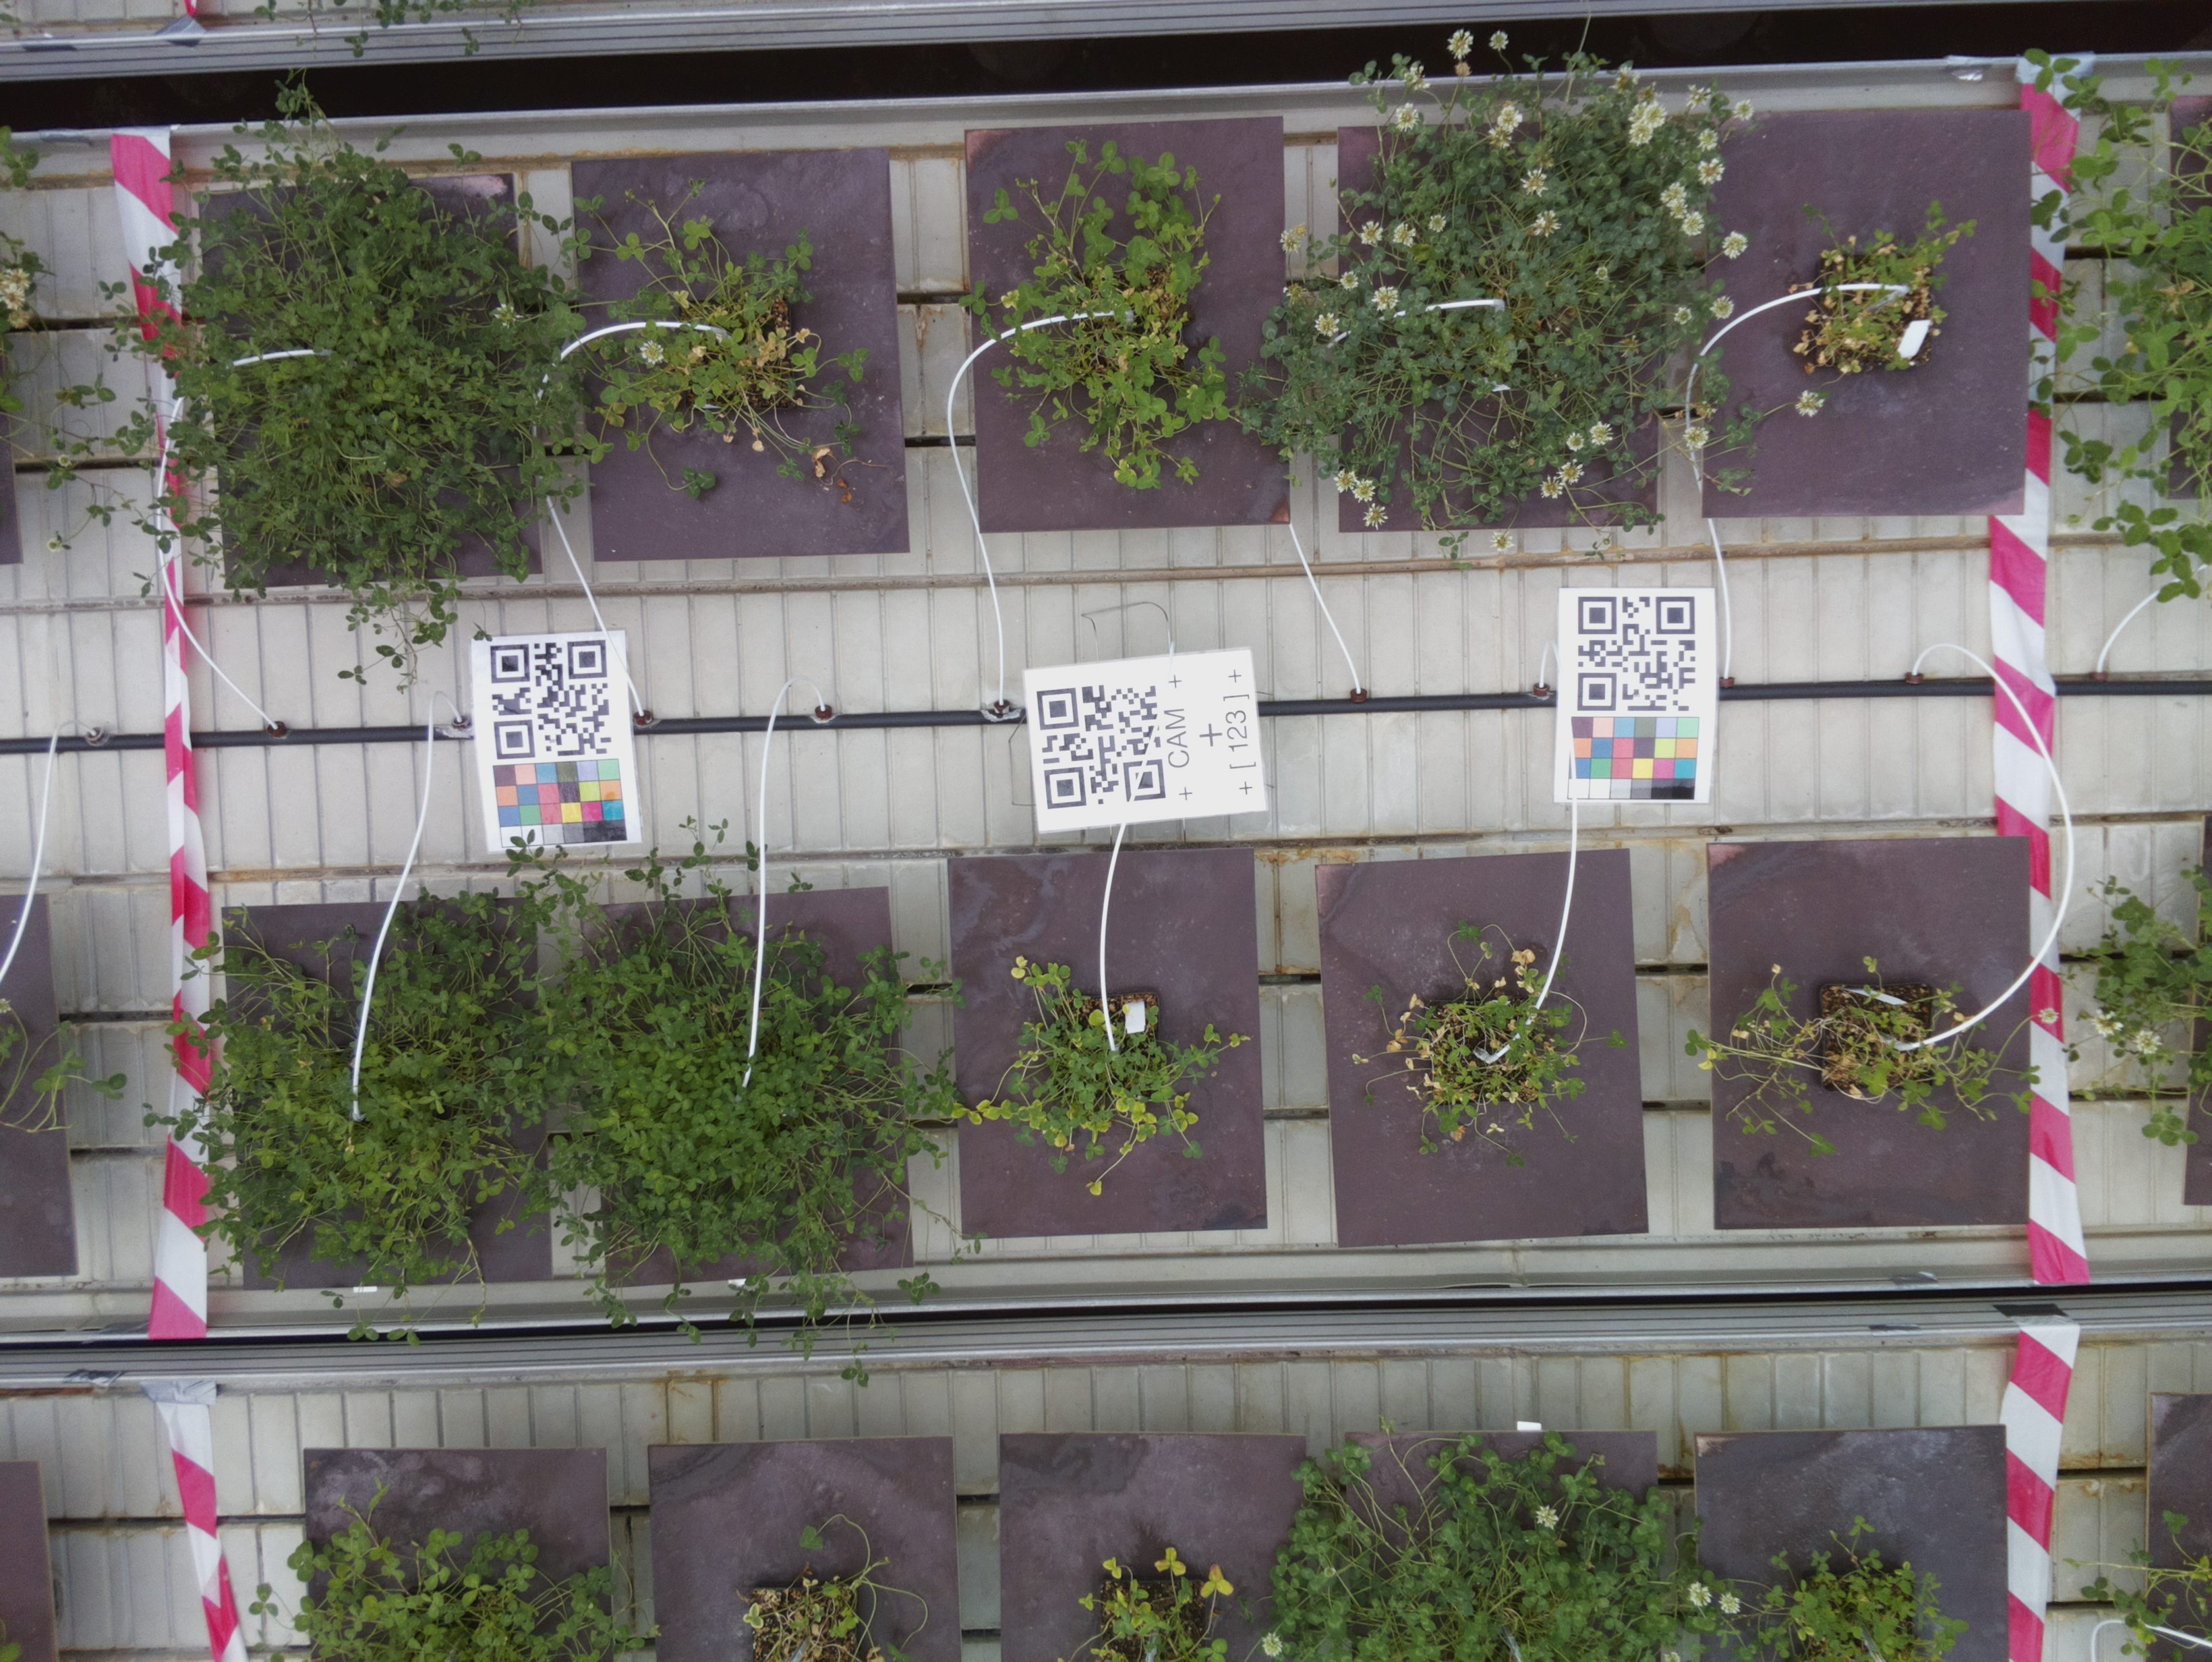POT: (571, 161, 911, 559), (199, 189, 527, 581), (965, 133, 1287, 524), (222, 903, 548, 1283), (1713, 841, 2036, 1226), (1336, 126, 1650, 519), (1318, 864, 1650, 1236), (946, 854, 1269, 1229), (581, 903, 913, 1266), (1716, 112, 2018, 508)
QRCODE: (1021, 644, 1269, 833)
QRCOLOR: (468, 635, 646, 848), (1557, 587, 1718, 807)
